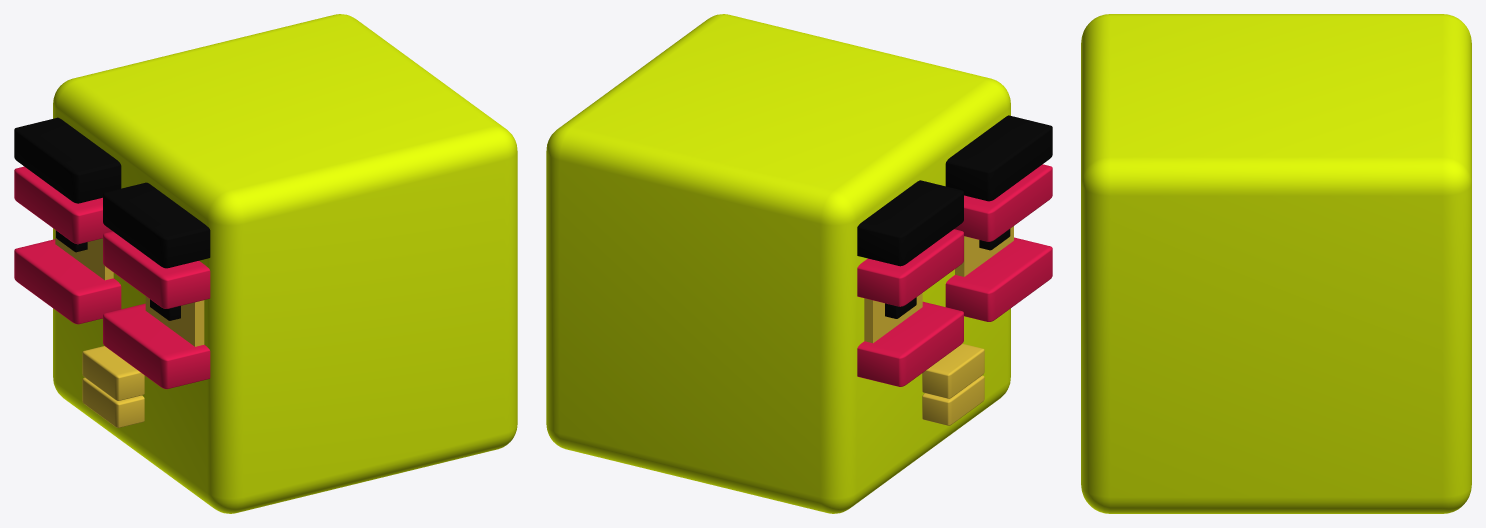
File: HEAD AR.glb
3 renders of one model, left to right at view 1: azimuth 30°, elevation 25°; view 2: azimuth 150°, elevation 25°; view 3: azimuth 270°, elevation 25°, orthographic. The views are drawn at different scales.
Parts seen in each view (by area): view 1: M_TOP; view 2: M_TOP; view 3: M_TOP.
Part boxes in pixels (x1,y1,x2,y2): M_TOP: [14, 14, 517, 513]; M_TOP: [546, 14, 1052, 513]; M_TOP: [1081, 14, 1471, 513].
Bounding box in the file's own units: 2.29 × 2 × 2.
